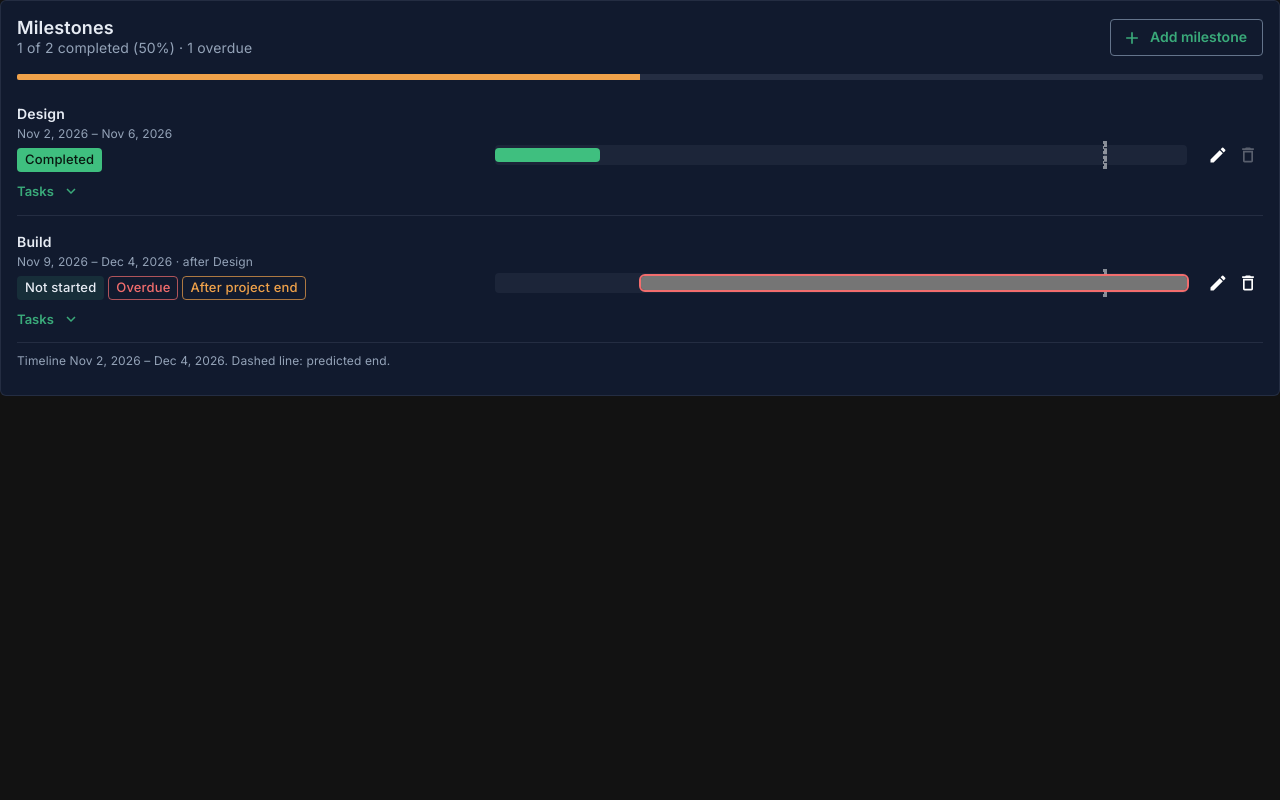
Test: MilestonesSection › shows server conflicts such as circular dependencies
Note: Valid as far as the dialog can tell, so the request reaches the server, which refuses it.
Click the button named "Edit Build": click(1218, 283) [1203, 268, 1233, 298]
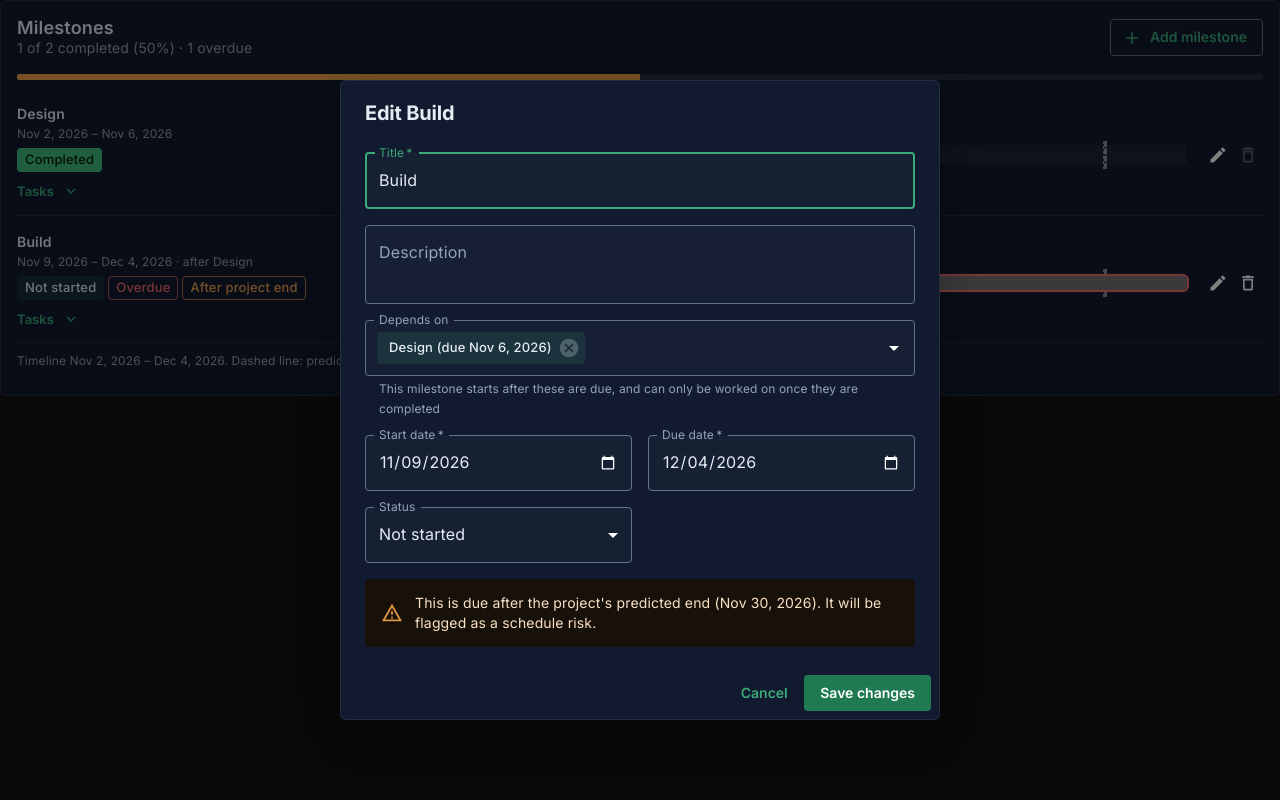
In the field labelled "Title *": (640, 181) [365, 153, 915, 209], type " phase"
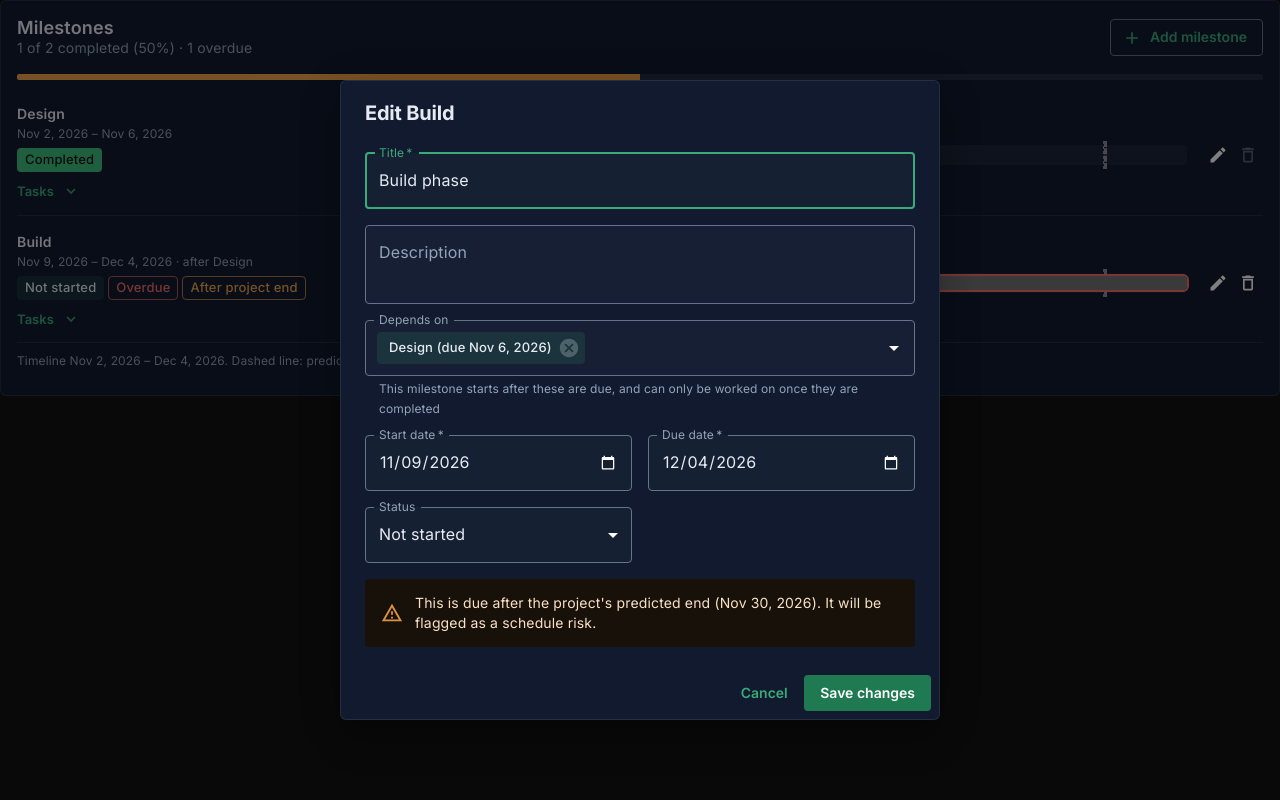
Click the button "Save changes": click(868, 693) [804, 675, 931, 711]
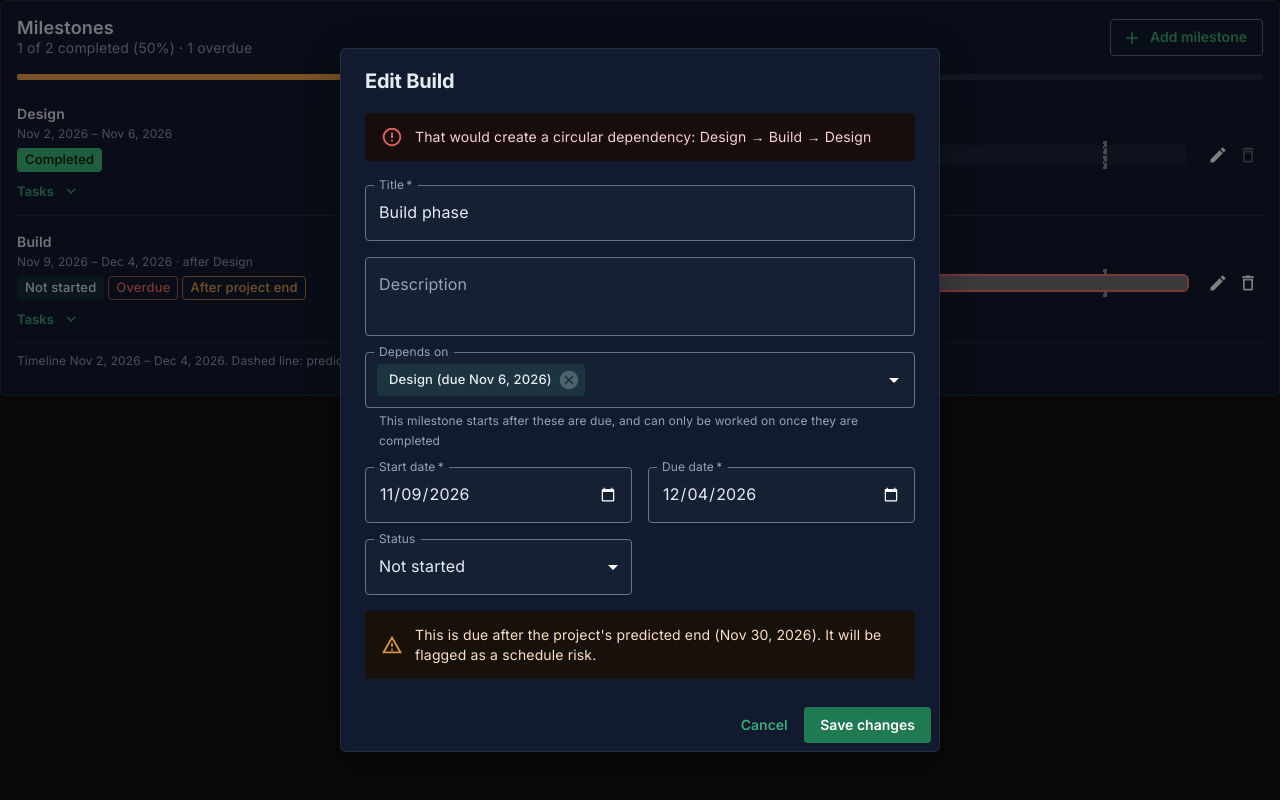
Expected: the text "circular dependency" is shown, [415, 128, 871, 145]
